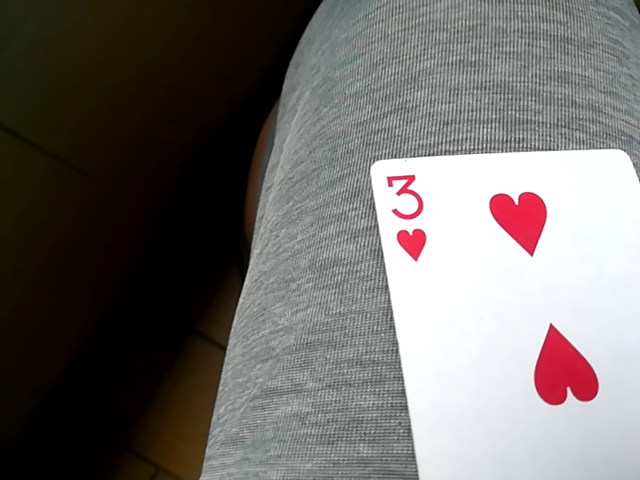hx 3: (369, 146, 640, 479)
